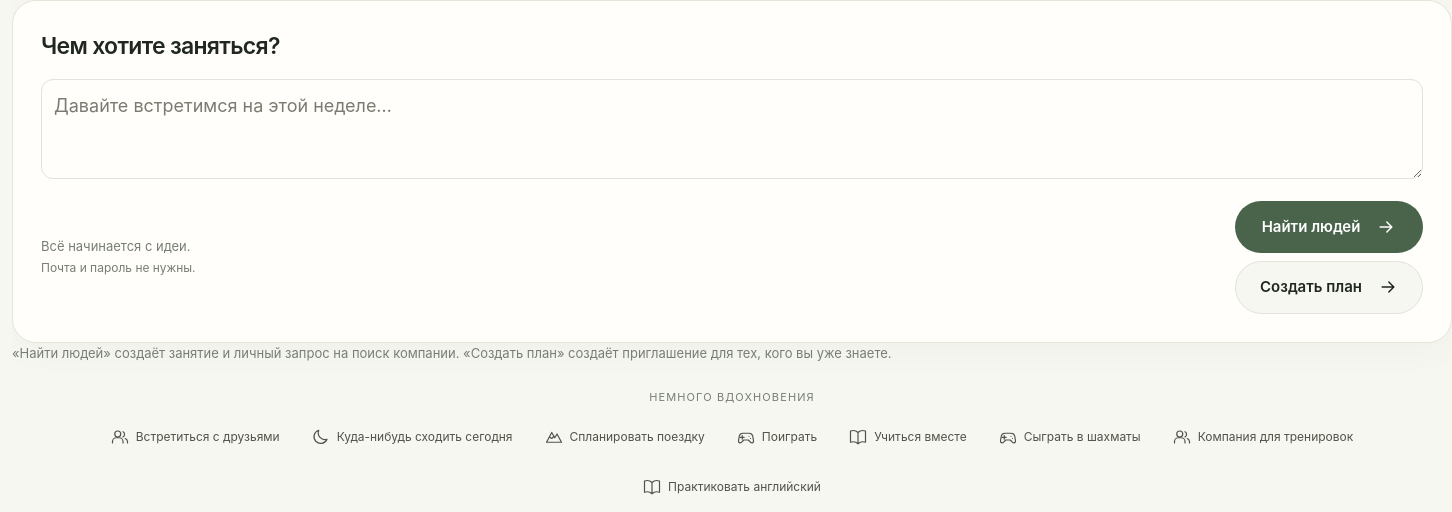
it: persistent intent composer › fills an example without submitting
The image size is (1452, 512).
Step 1. Click the button "Поиграть" → [777, 437], box [724,415,830,459]
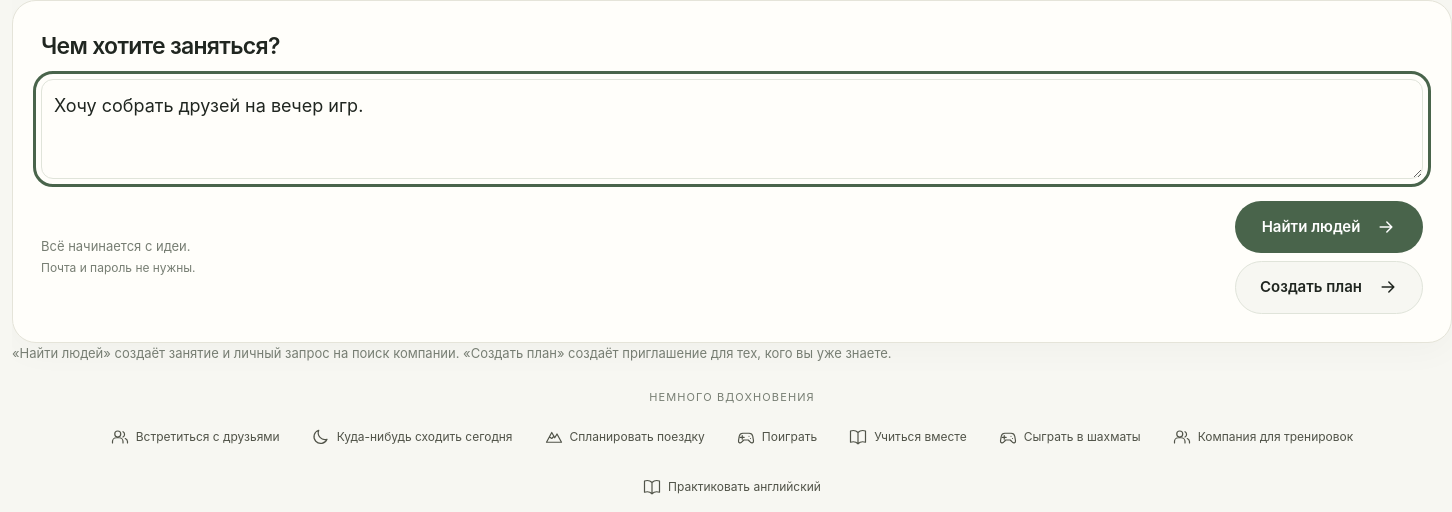
expect the text box holds "Хочу собрать друзей на вечер игр.": met, box [41,78,1423,178]
